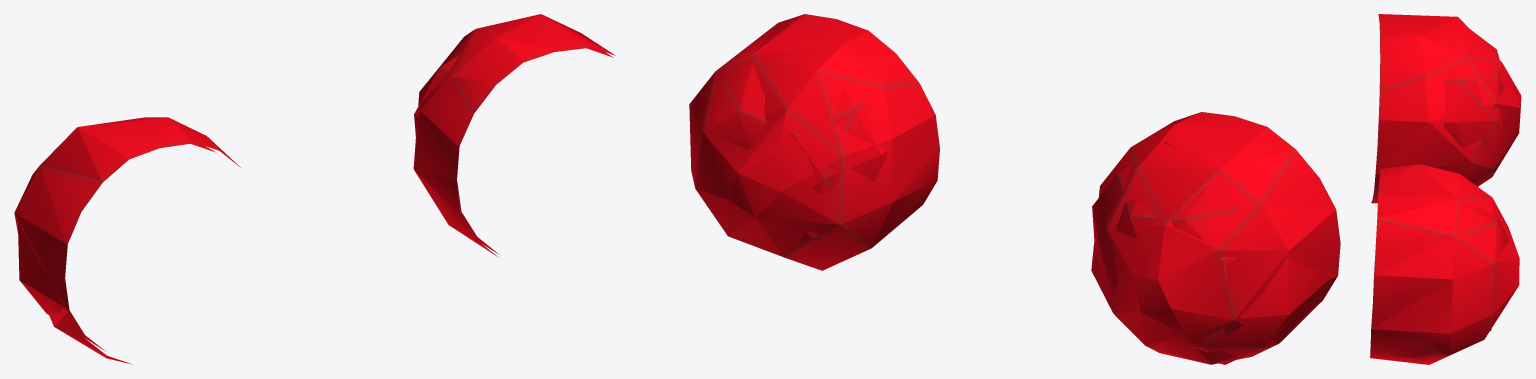
File: ojosCabeza.glb
3 views of the same model, side by side, from view 1: azimuth 30°, elevation 25°; view 2: azimuth 150°, elevation 25°; view 3: azimuth 270°, elevation 25° (orthographic). The views are drawn at different scales.
Visible parts, largest first — view 1: ojos_cabeza_gigante_luz_roja:Mesh; view 2: ojos_cabeza_gigante_luz_roja:Mesh; view 3: ojos_cabeza_gigante_luz_roja:Mesh.
Boxes of the visible parts, x1,y1,x2,y2 form: ojos_cabeza_gigante_luz_roja:Mesh: [14, 14, 615, 364]; ojos_cabeza_gigante_luz_roja:Mesh: [689, 14, 1340, 364]; ojos_cabeza_gigante_luz_roja:Mesh: [1369, 14, 1521, 364].
Size of the model in its own units: 2.24 by 0.7832 by 0.6114.
1 material, 1 textured.
